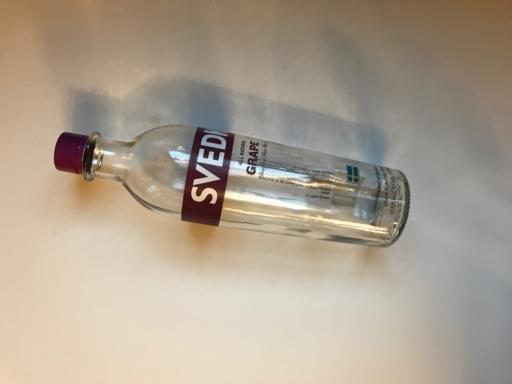botolkaca: (54, 125, 410, 249)
